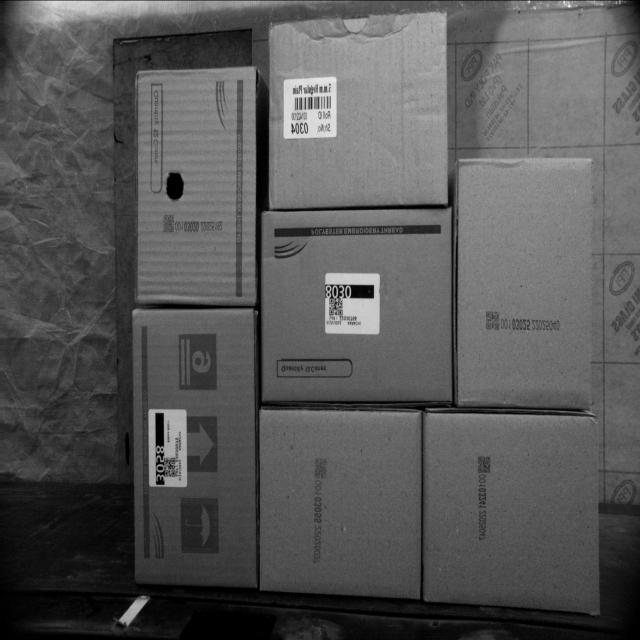cardboxes: (258, 204, 454, 404), (269, 11, 445, 208), (456, 162, 596, 404), (133, 307, 252, 586), (426, 418, 600, 608), (258, 409, 420, 596), (137, 64, 258, 304)
